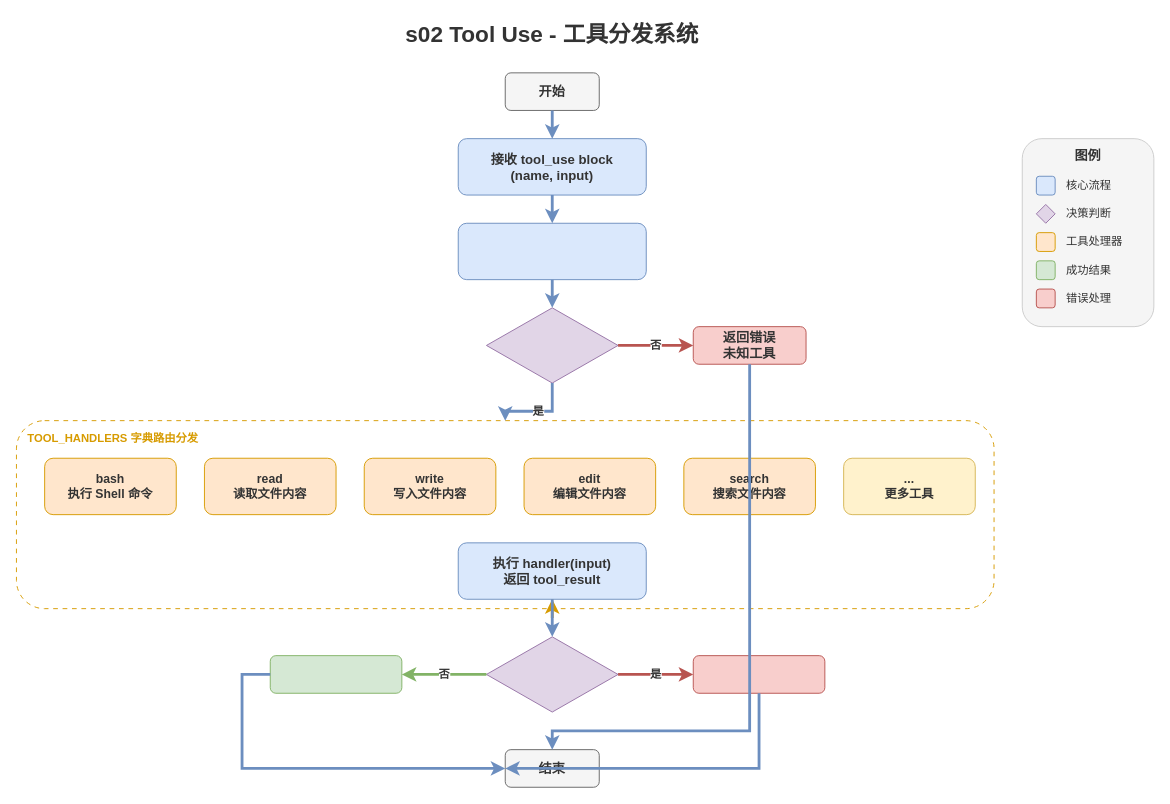
Image size: 1170x804. Some labels were removed from this diagram. Each missing label, with the box of its shape:
handler 存在?: (486, 307, 618, 383)
执行 异常?: (486, 636, 618, 712)
查找 TOOL_HANDLERS handler = TOOL_HANDLERS[name]: (457, 222, 646, 280)
返回成功结果 tool_result: (269, 655, 402, 693)
返回错误信息 is_error: true: (692, 655, 825, 693)
